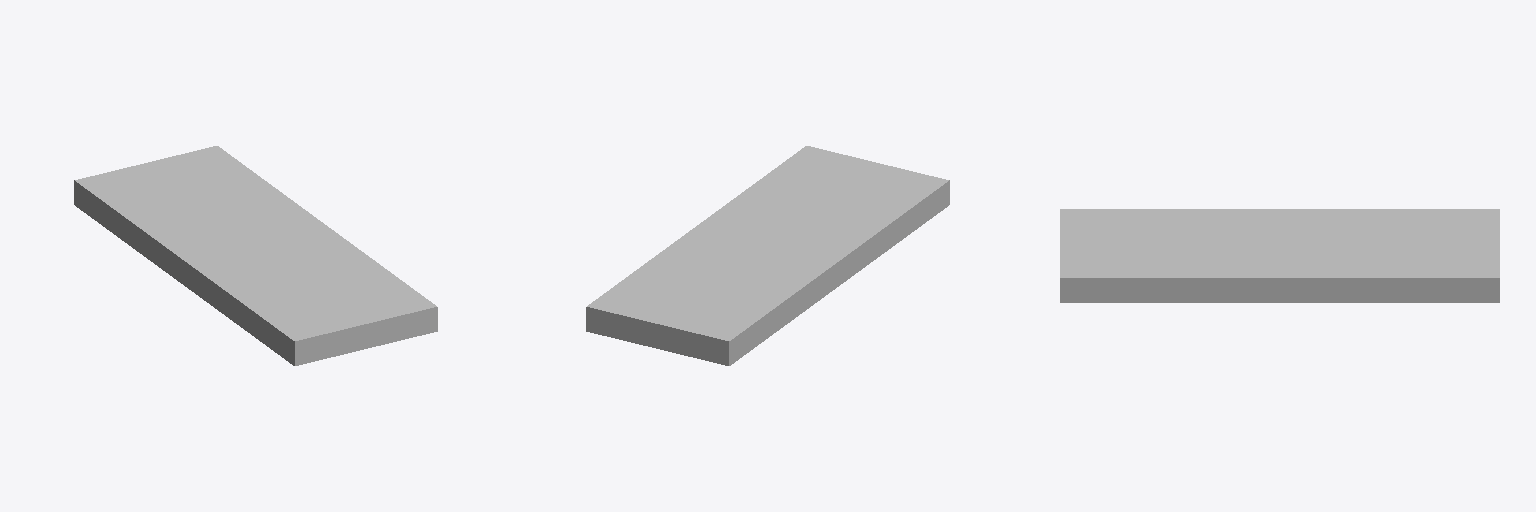
File: Plate2_3x8.obj
The picture shows the model from 3 angles: view 1: azimuth 30°, elevation 25°; view 2: azimuth 150°, elevation 25°; view 3: azimuth 270°, elevation 25°; orthographic projection.
Parts seen in each view (by area): view 1: Plate2_3x8_Cube.289; view 2: Plate2_3x8_Cube.289; view 3: Plate2_3x8_Cube.289.
Part boxes in pixels (x1,y1,x2,y2): Plate2_3x8_Cube.289: (74,146,437,365); Plate2_3x8_Cube.289: (586,146,949,365); Plate2_3x8_Cube.289: (1060,209,1499,302).
Size of the model in its own units: 3 by 0.5 by 8.